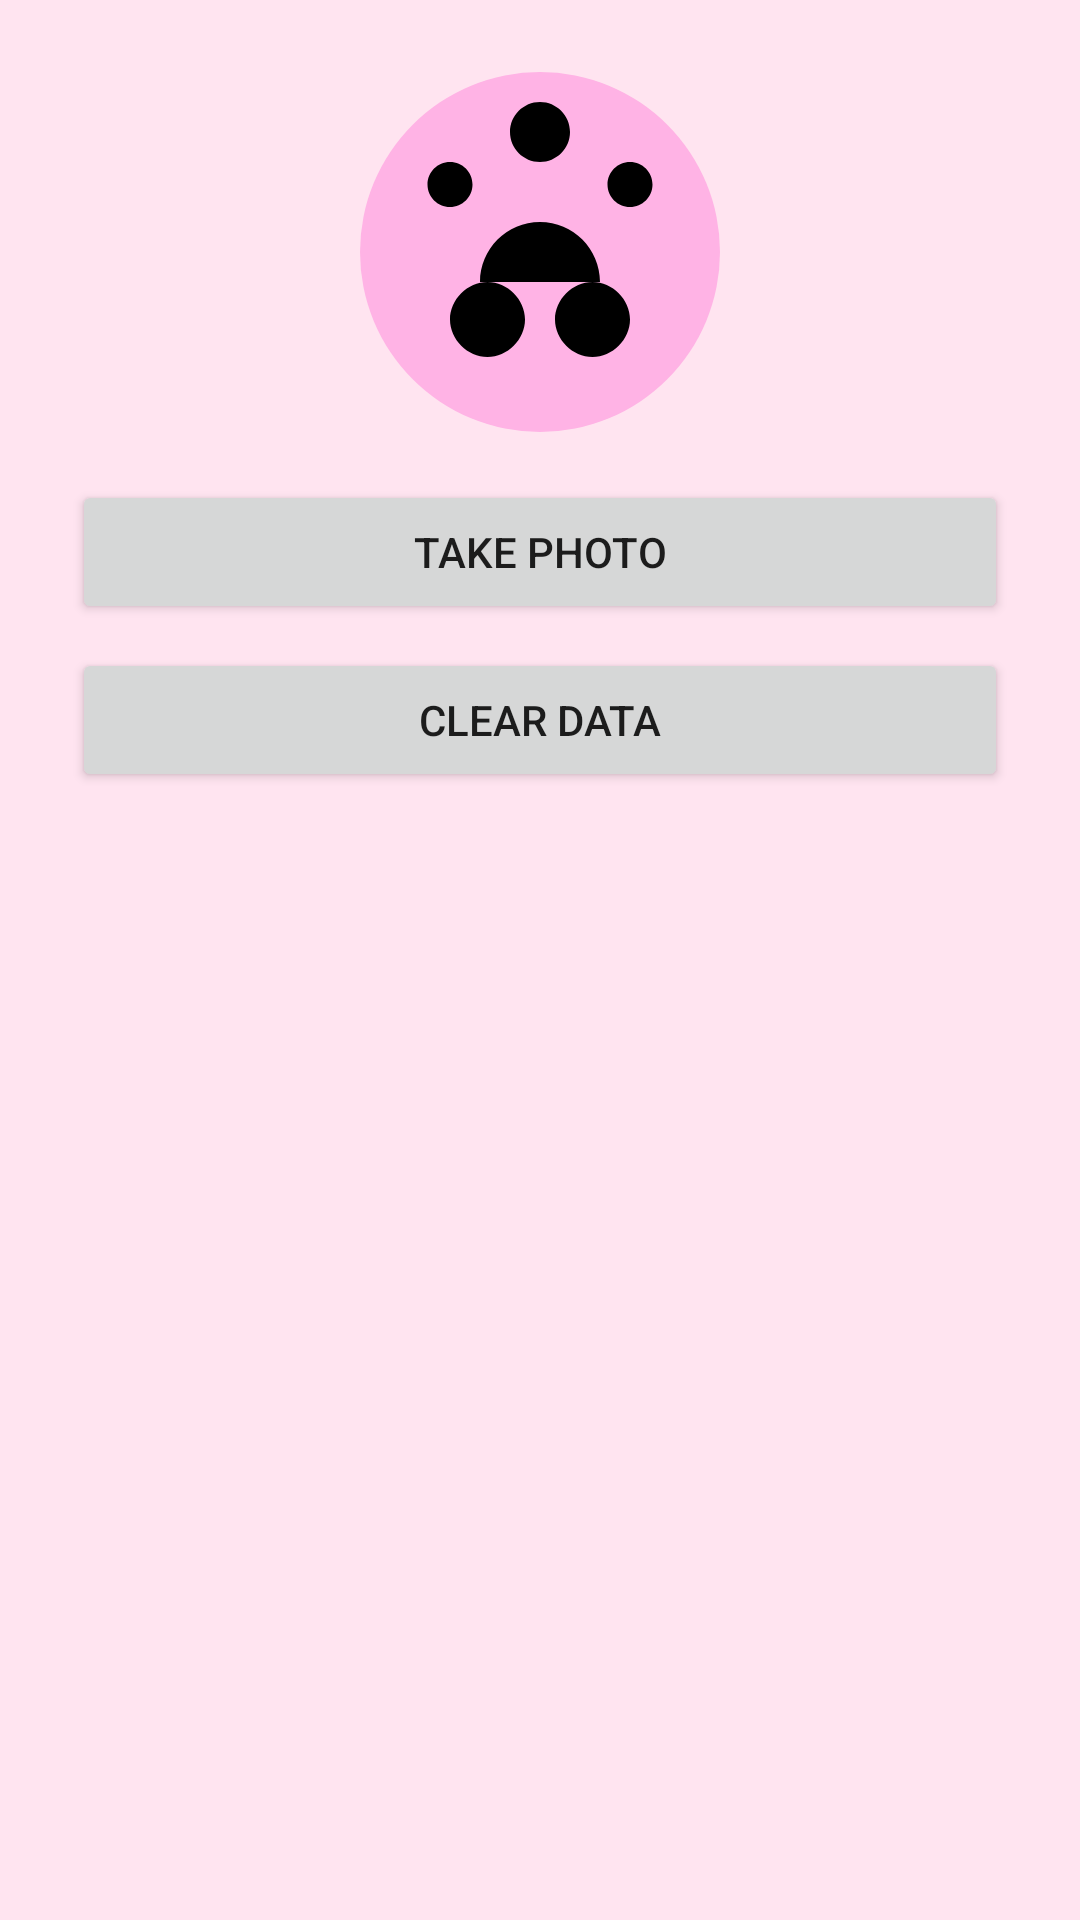

Icon click points for this 1080px×1920px phone screenshot, format point (x, y):
Pet Photo: point (540, 252)
